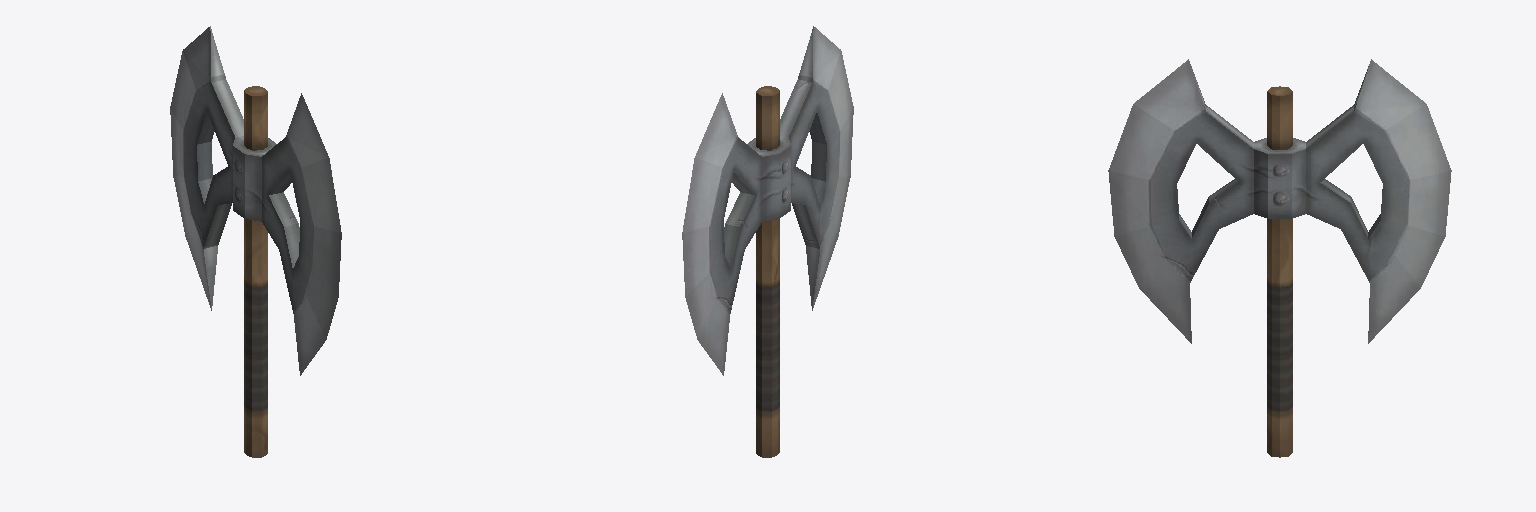
3 views of the same model, side by side, from view 1: azimuth 30°, elevation 25°; view 2: azimuth 150°, elevation 25°; view 3: azimuth 270°, elevation 25° (orthographic).
Bounding box in the file's own units: 0.2354 × 2.54 × 2.01.
Materials: 1 (1 with a texture image).